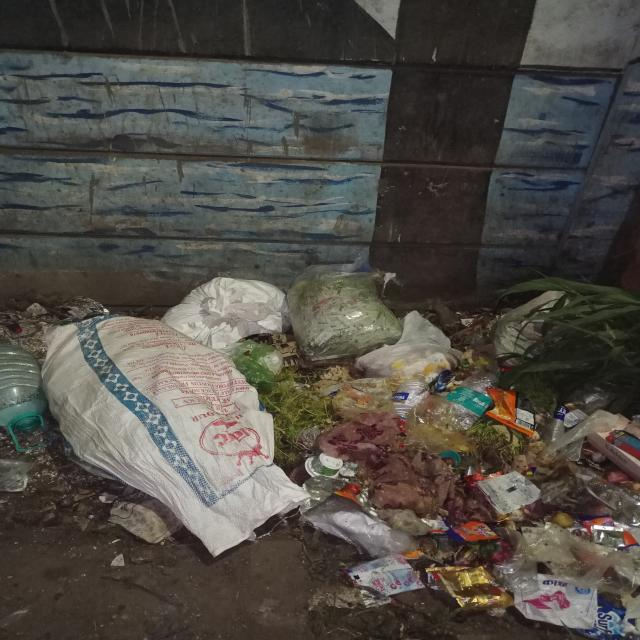garbage: (2, 263, 640, 640)
